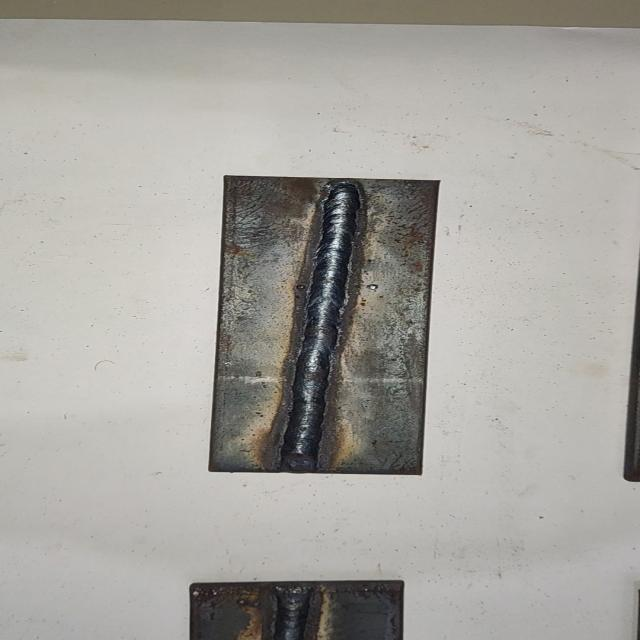Welding Line: (285, 182, 363, 466), (273, 583, 313, 640)
Workpiece: (205, 174, 443, 478), (184, 576, 412, 640)
